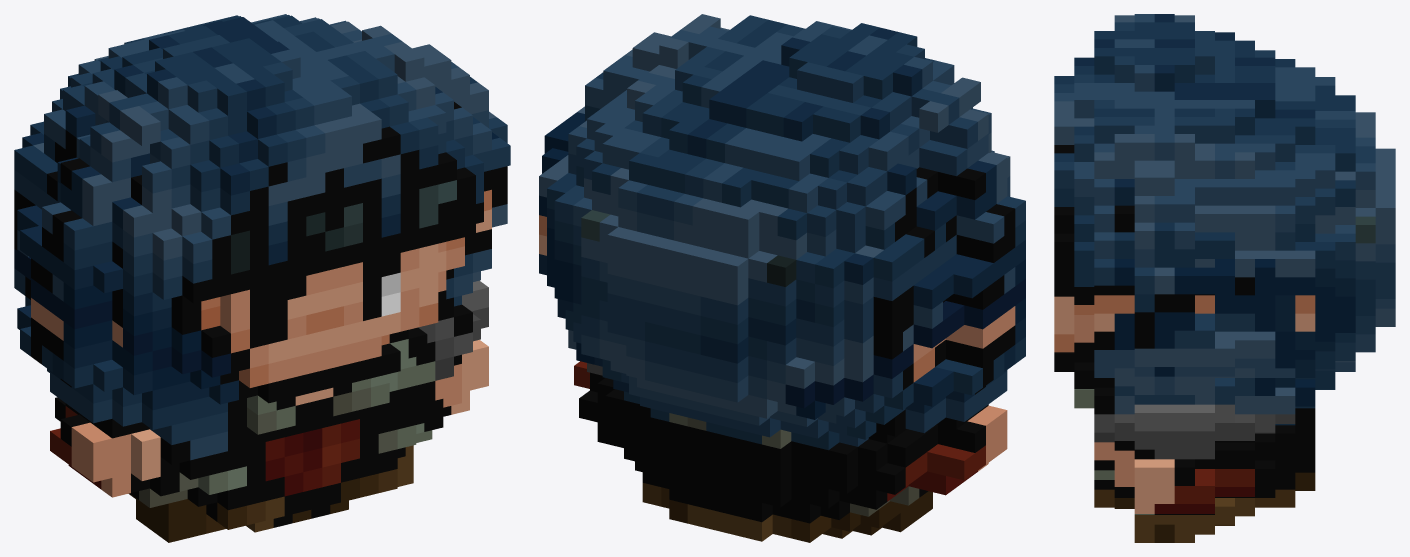
The model's file is Icon_752_02.obj.
3 renders of one model, left to right at view 1: azimuth 30°, elevation 25°; view 2: azimuth 150°, elevation 25°; view 3: azimuth 270°, elevation 25°, orthographic. The views are drawn at different scales.
Bounding box in the file's own units: 2.3 × 2.3 × 1.7.
